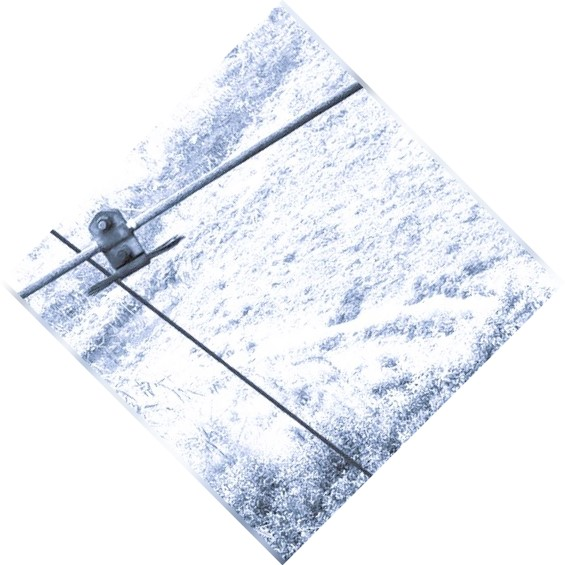Damage of shockproof hammer: (71, 194, 191, 299)
